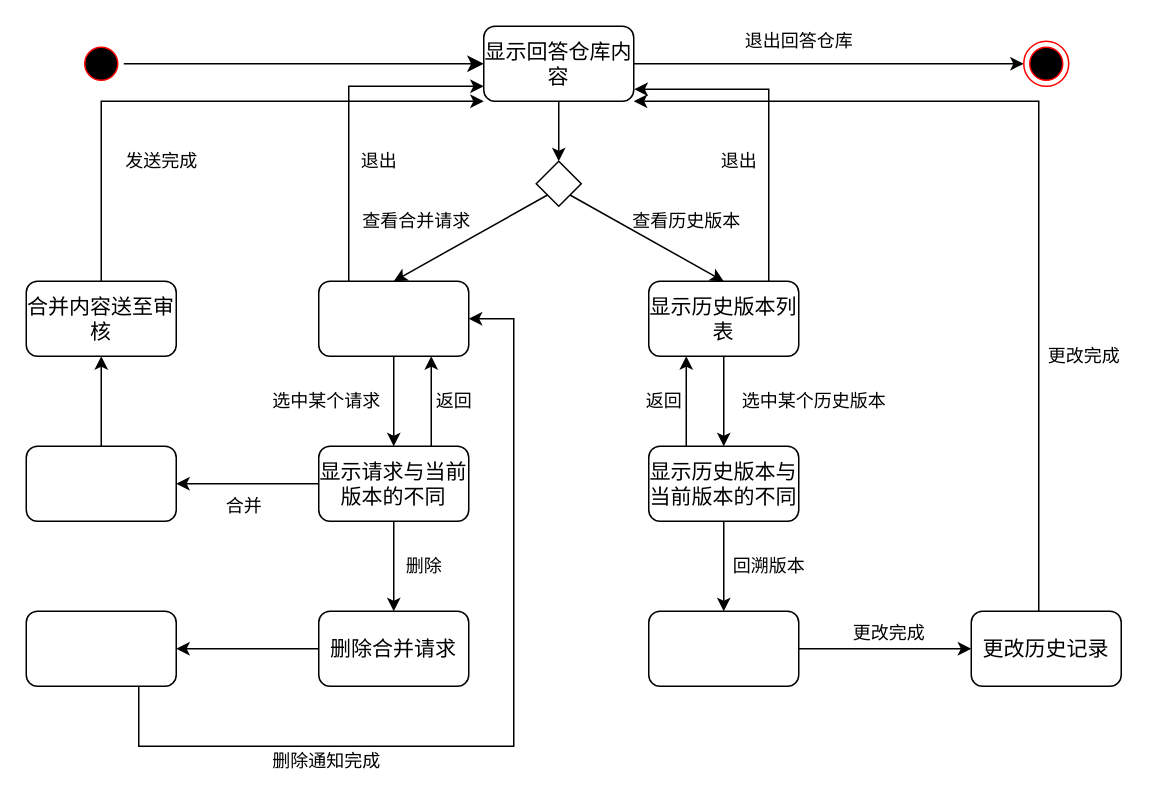
This 1155x803 diagram has some shape labels left out. Here are the shapes that lost their labels. From the top down, the centre of each, then its label:
point (393, 318): 显示合并请求列表
point (100, 483): 合并请求与仓库的内容
point (100, 648): 通知请求发起者
point (723, 648): 更改仓库内容
